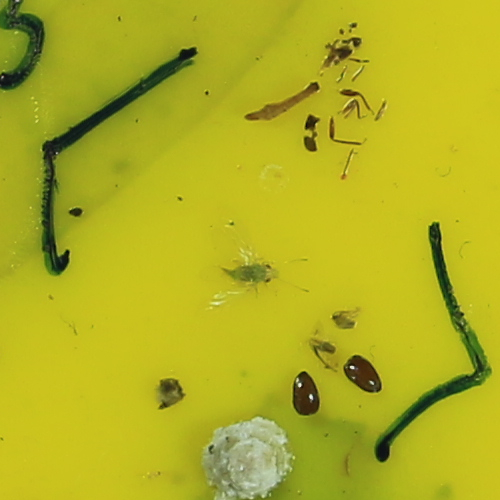psylla: (220, 260, 283, 287)
